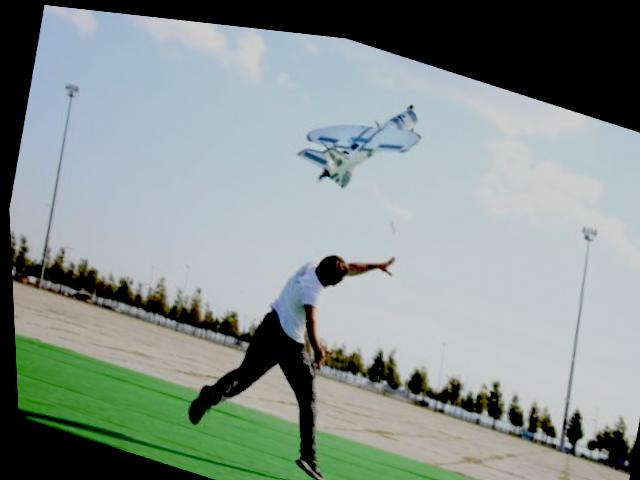uav: (288, 68, 431, 206)
